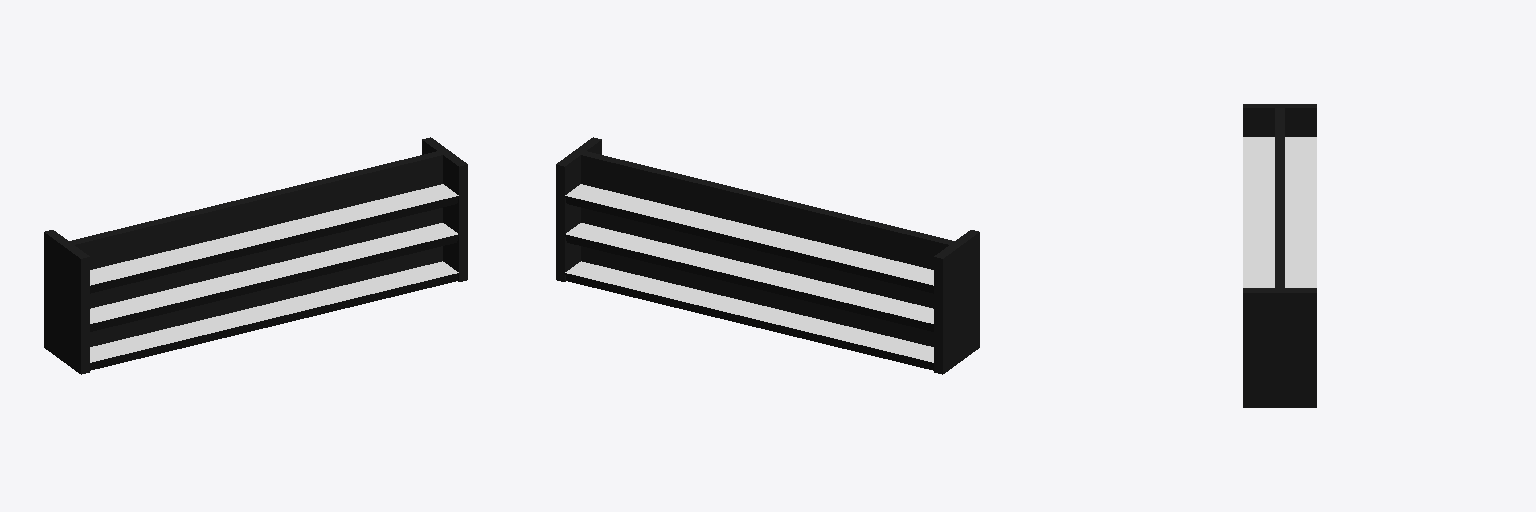
The picture shows the model from 3 angles: view 1: azimuth 30°, elevation 25°; view 2: azimuth 150°, elevation 25°; view 3: azimuth 270°, elevation 25°; orthographic projection.
Parts seen in each view (by area): view 1: pCube8; view 2: pCube8; view 3: pCube8.
Part boxes in pixels (x1,y1,x2,y2): pCube8: (44, 137, 467, 374); pCube8: (556, 137, 979, 374); pCube8: (1243, 104, 1316, 407).
Size of the model in its own units: 21 by 6 by 3.5.
Materials: 1 (1 with a texture image).